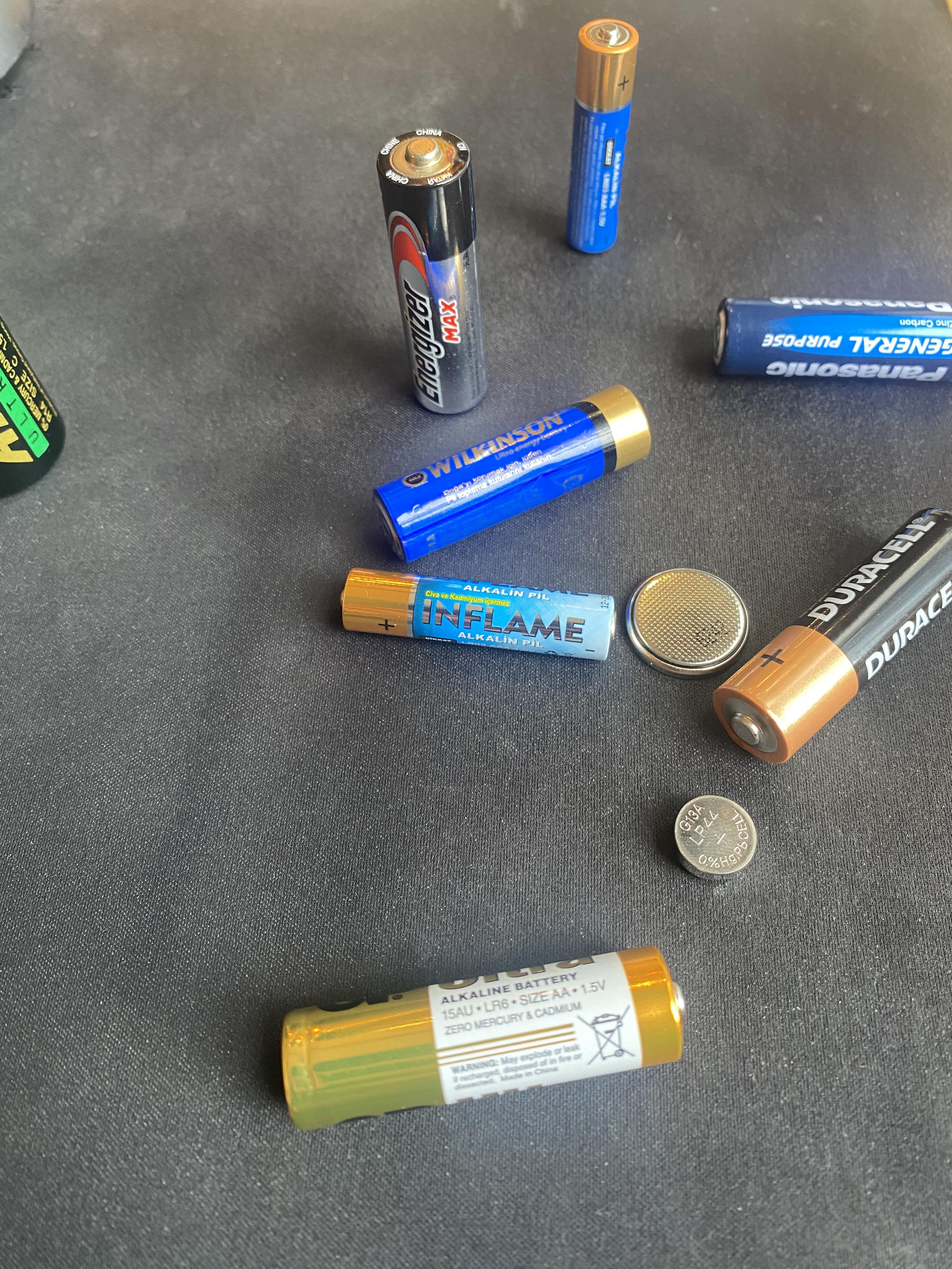AA: (375, 126, 488, 415)
